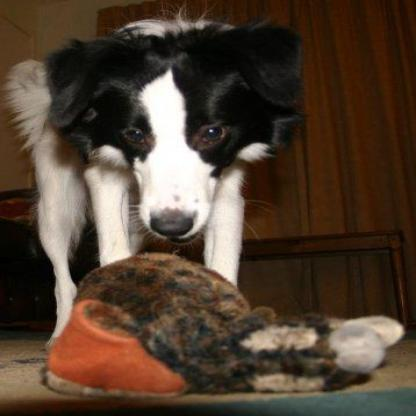collie: (5, 17, 301, 352)
